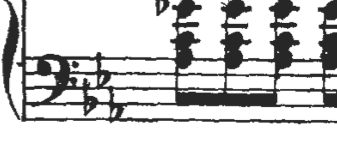bass_clef: (31, 44, 80, 115)
flat: (103, 80, 128, 131), (91, 48, 118, 92), (79, 76, 101, 122)
